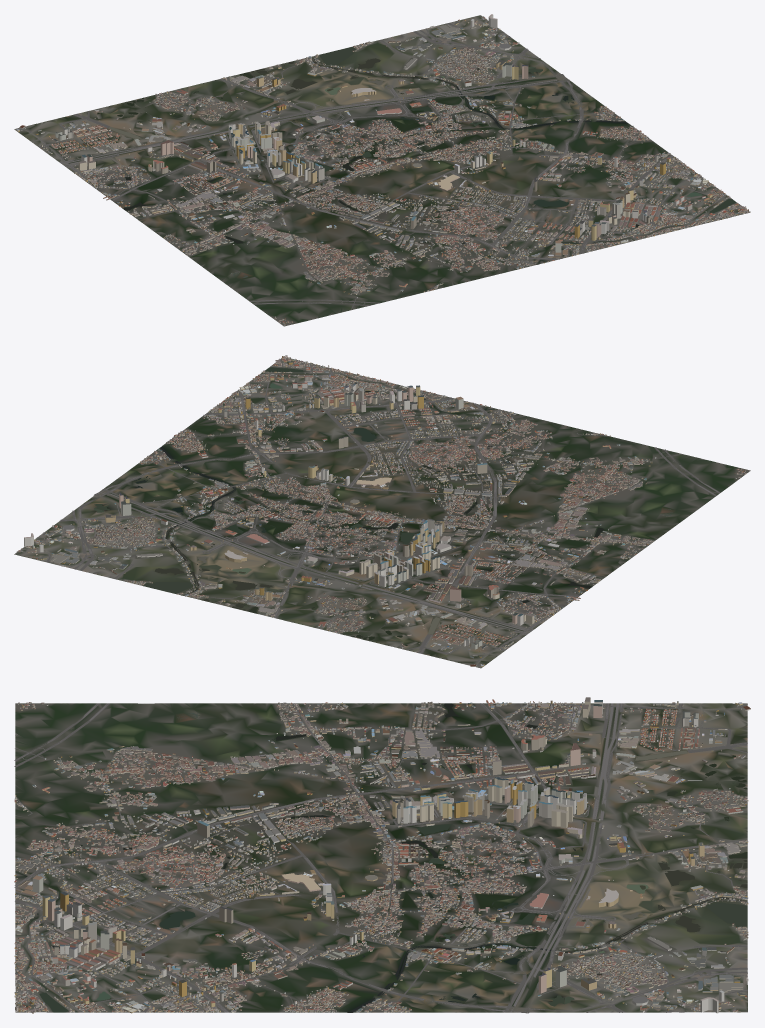
3 renders of one model, top to bottom at view 1: azimuth 30°, elevation 25°; view 2: azimuth 150°, elevation 25°; view 3: azimuth 270°, elevation 25°, orthographic. The views are drawn at different scales.
Parts seen in each view (by area): view 1: ground, buildings, roads, water; view 2: ground, buildings, roads, water; view 3: ground, buildings, roads, water.
Boxes of the visible parts, left/top/right/bottom form: ground: left=14, top=15, right=749, bottom=326; buildings: left=16, top=14, right=750, bottom=325; roads: left=16, top=23, right=746, bottom=315; water: left=49, top=47, right=736, bottom=277; ground: left=14, top=357, right=750, bottom=668; buildings: left=16, top=355, right=749, bottom=666; roads: left=37, top=358, right=720, bottom=667; water: left=94, top=367, right=672, bottom=645; ground: left=15, top=703, right=747, bottom=1012; buildings: left=14, top=697, right=750, bottom=1013; roads: left=14, top=703, right=747, bottom=1013; water: left=37, top=703, right=747, bottom=1012.
Size of the model in its own units: 5678 by 171 by 5643.
